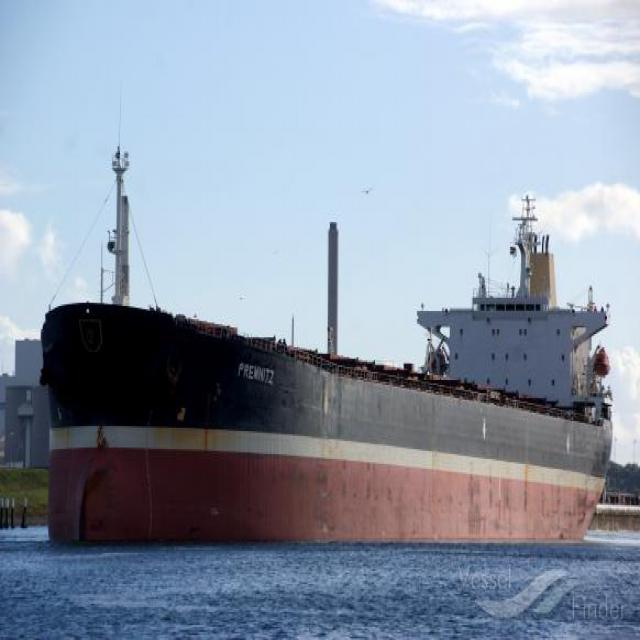OCR: (220, 356, 278, 394)
